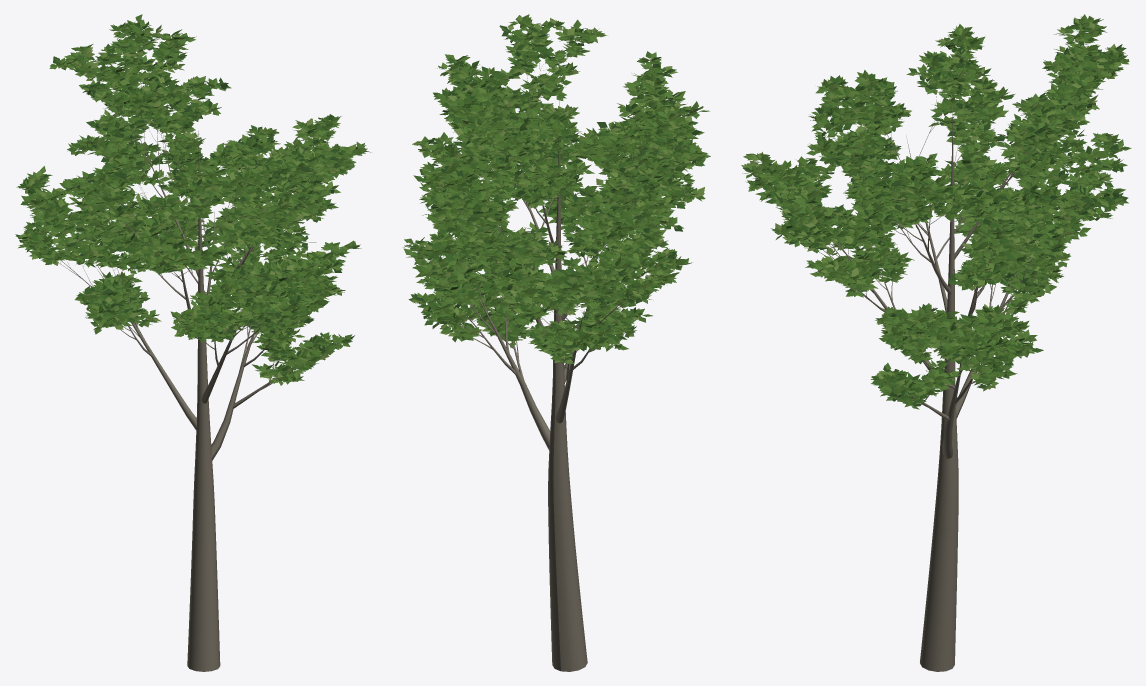
Rendered from tree_06.glb.
3 renders of one model, left to right at view 1: azimuth 30°, elevation 25°; view 2: azimuth 150°, elevation 25°; view 3: azimuth 270°, elevation 25°, orthographic. The views are drawn at different scales.
Parts seen in each view (by area): view 1: Tree_06_leaf_clusters, Tree_06_trunk_branches; view 2: Tree_06_leaf_clusters, Tree_06_trunk_branches; view 3: Tree_06_leaf_clusters, Tree_06_trunk_branches.
Boxes of the visible parts, box(x1,y1,x2,y2) form: Tree_06_leaf_clusters: box(15, 14, 370, 385); Tree_06_trunk_branches: box(30, 33, 330, 671); Tree_06_leaf_clusters: box(403, 14, 710, 363); Tree_06_trunk_branches: box(418, 26, 689, 671); Tree_06_leaf_clusters: box(741, 14, 1131, 409); Tree_06_trunk_branches: box(756, 39, 1110, 671).
Size of the model in its own units: 4.9 by 9.22 by 5.25.
